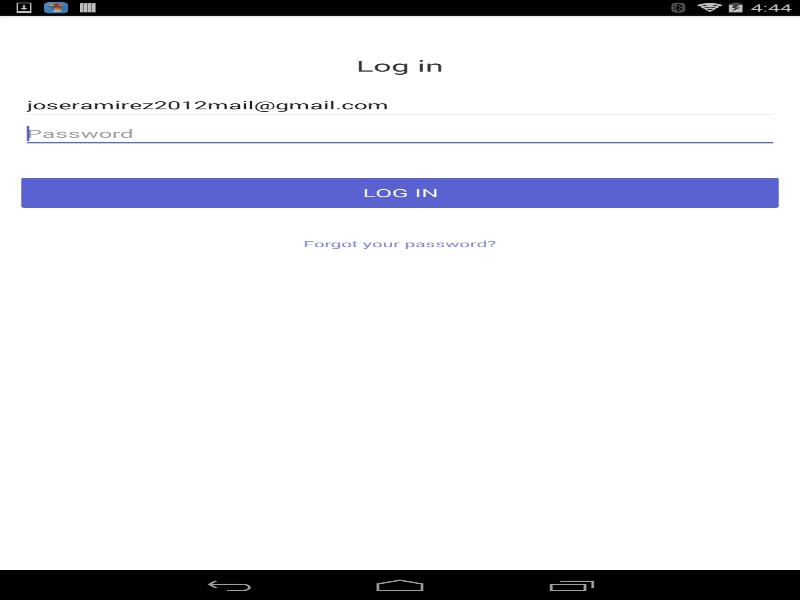Button: (21, 177, 778, 207)
Input: (21, 90, 778, 119), (21, 119, 778, 147)
